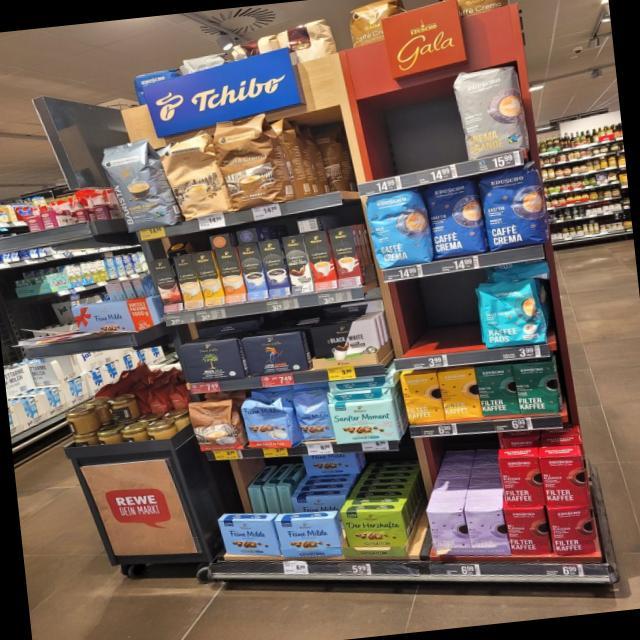BM Gemahlen: (179, 336, 247, 384)
BW Gemahlen: (310, 317, 380, 369)
Barista CC: (96, 133, 183, 234)
CC Mild: (155, 128, 232, 221)
CC Vollmundig: (186, 396, 246, 453)
CC Vollmundig 36 Pads: (206, 110, 294, 211)
Empty Shelf: (270, 99, 357, 199)
FM 36 Pads: (239, 393, 297, 449)
FM Bohne: (289, 389, 335, 443)
FM Gemahlen: (274, 515, 343, 559), (217, 518, 282, 557)
Herzhatfe Mundig: (340, 509, 409, 547)
LG Gemahlen: (242, 330, 308, 377)
SM Gemahlen: (328, 398, 401, 445)
Simo CC Colombia: (148, 257, 184, 312)
Simo CCMild bigpack: (191, 251, 225, 306)
Simo CCVollmundig bigpack: (215, 246, 247, 303)
Simo Decaff: (173, 254, 203, 309)
Simo Es Brazil: (303, 230, 338, 291)
Simo Es Caramel: (327, 225, 363, 286)
Simo Es Elegant: (281, 233, 314, 293)
Simo Es Kraft: (258, 238, 291, 297)
Simo Es Vanilla: (237, 242, 268, 300)
